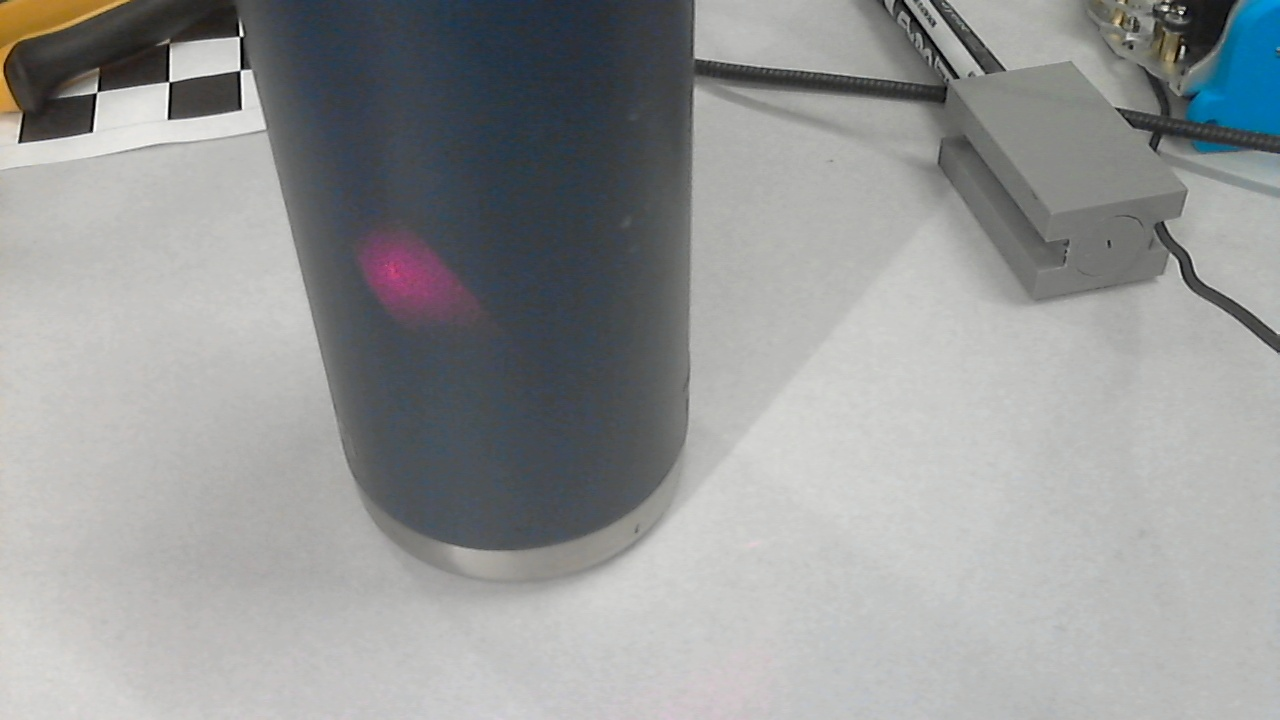Object insulated water bottle - Material metal - Color navy blue - Pdfname Uop6e: (315, 195, 520, 367)
